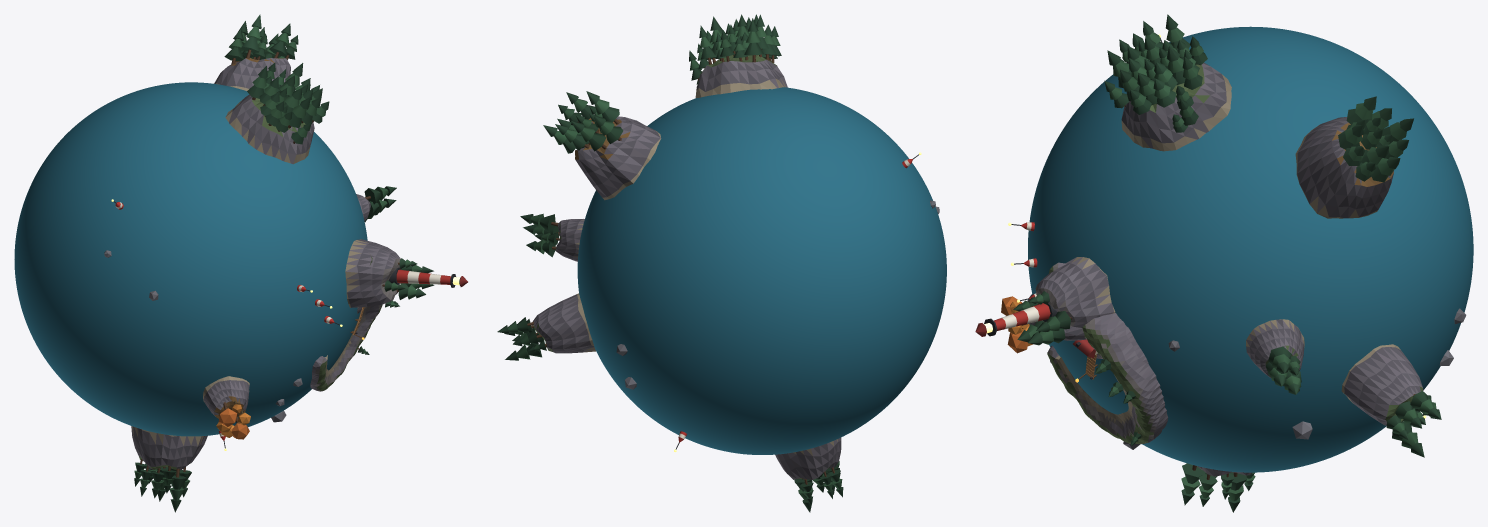
The model's file is harbour.glb.
3 renders of one model, left to right at view 1: azimuth 30°, elevation 25°; view 2: azimuth 150°, elevation 25°; view 3: azimuth 270°, elevation 25°, orthographic. The views are drawn at different scales.
Visible parts, largest first — view 1: Water, Island_lighthouse, Island_pines, Island_island-9, Island_island-6, Island_autumn, Lighthouse; view 2: Water, Island_island-6, Island_pines, Island_island-3, Island_island-9, Island_island-8; view 3: Water, Island_island-6, Island_pines, Island_island-3, Island_lighthouse, Island_island-8, Island_bay-arm-2, Island_bay-arm-1, Lighthouse, Island_bay-arm-3, Island_bay-arm-7, Island_bay-arm-6 (+2 smaller).
Boxes of the visible parts, x1=… form: Water: x1=14, y1=82, x2=367, y2=436; Island_lighthouse: x1=345, y1=239, x2=400, y2=307; Island_pines: x1=225, y1=94, x2=314, y2=164; Island_island-9: x1=131, y1=426, x2=207, y2=470; Island_island-6: x1=214, y1=58, x2=290, y2=90; Island_autumn: x1=203, y1=376, x2=249, y2=418; Lighthouse: x1=388, y1=267, x2=467, y2=287; Water: x1=577, y1=87, x2=946, y2=454; Island_island-6: x1=575, y1=116, x2=661, y2=200; Island_pines: x1=695, y1=55, x2=787, y2=97; Island_island-3: x1=532, y1=293, x2=595, y2=353; Island_island-9: x1=775, y1=437, x2=841, y2=479; Island_island-8: x1=555, y1=219, x2=584, y2=261; Water: x1=1028, y1=26, x2=1473, y2=472; Island_island-6: x1=1295, y1=117, x2=1393, y2=218; Island_pines: x1=1121, y1=62, x2=1231, y2=151; Island_island-3: x1=1341, y1=344, x2=1423, y2=425; Island_lighthouse: x1=1034, y1=257, x2=1115, y2=340; Island_island-8: x1=1246, y1=319, x2=1304, y2=377; Island_bay-arm-2: x1=1108, y1=341, x2=1159, y2=400; Island_bay-arm-1: x1=1048, y1=262, x2=1135, y2=360; Lighthouse: x1=975, y1=303, x2=1057, y2=336; Island_bay-arm-3: x1=1118, y1=382, x2=1168, y2=432; Island_bay-arm-7: x1=1047, y1=345, x2=1081, y2=397; Island_bay-arm-6: x1=1074, y1=388, x2=1107, y2=430.
Bounding box in the file's own units: 12.14 × 13.58 × 11.17.
